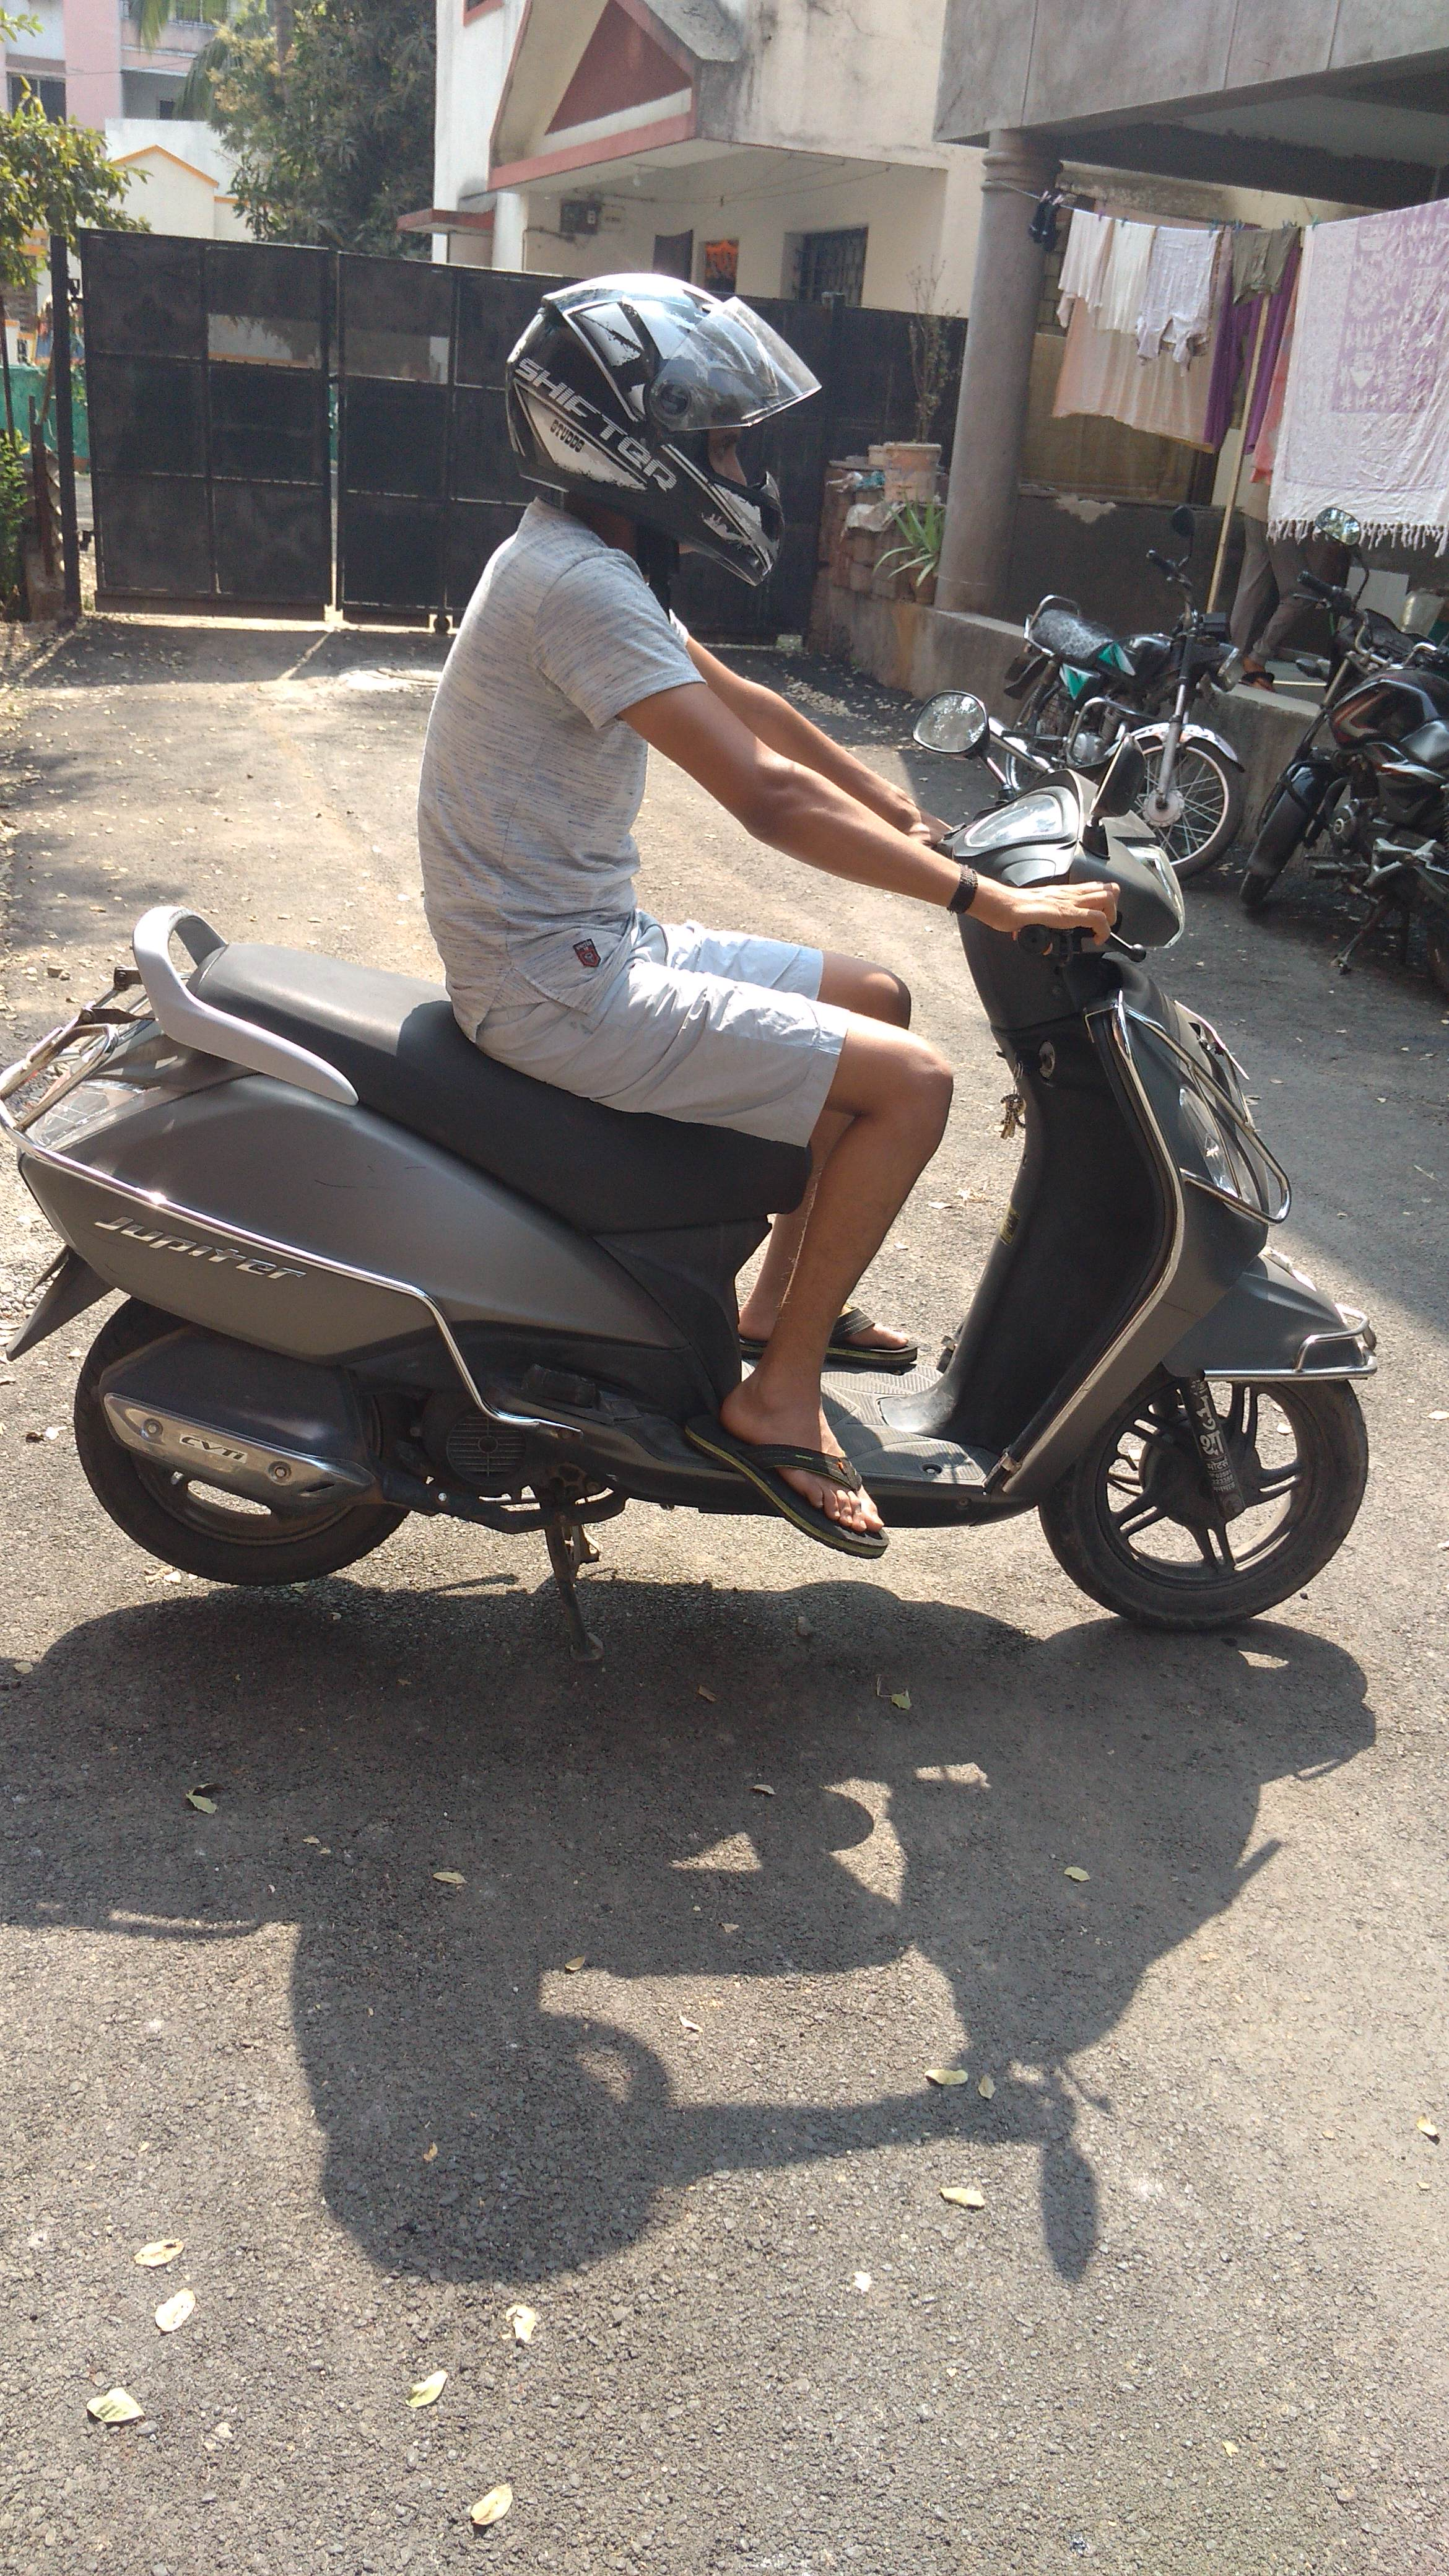helmet: (395, 257, 902, 1115)
